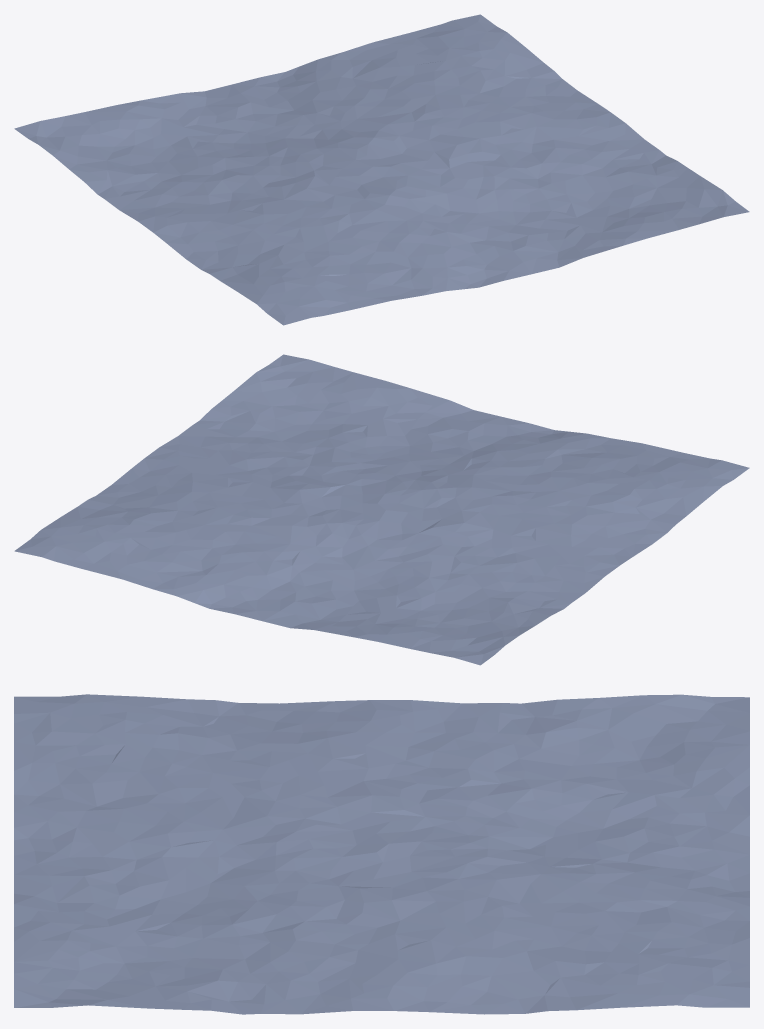
The model's file is waterPlane4.fbx.
The picture shows the model from 3 angles, top to bottom: view 1: azimuth 30°, elevation 25°; view 2: azimuth 150°, elevation 25°; view 3: azimuth 270°, elevation 25°; orthographic projection. The views are drawn at different scales.
Parts seen in each view (by area): view 1: waterPlane4; view 2: waterPlane4; view 3: waterPlane4.
Boxes of the visible parts, left/top/right/bottom form: waterPlane4: left=14, top=14, right=749, bottom=325; waterPlane4: left=14, top=354, right=749, bottom=665; waterPlane4: left=14, top=694, right=749, bottom=1014.
Size of the model in its own units: 5001 by 139 by 5001.
